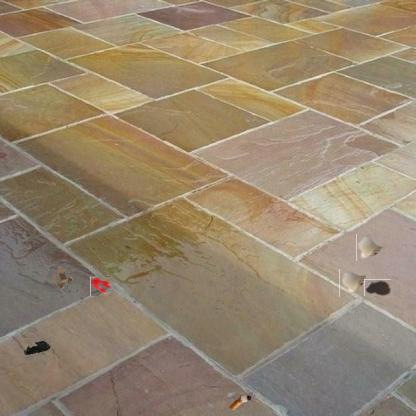dirty: (356, 234, 384, 261), (339, 269, 366, 297), (21, 338, 51, 356), (227, 392, 253, 410), (53, 269, 72, 287)
liquid: (364, 279, 391, 296), (90, 276, 111, 297)
